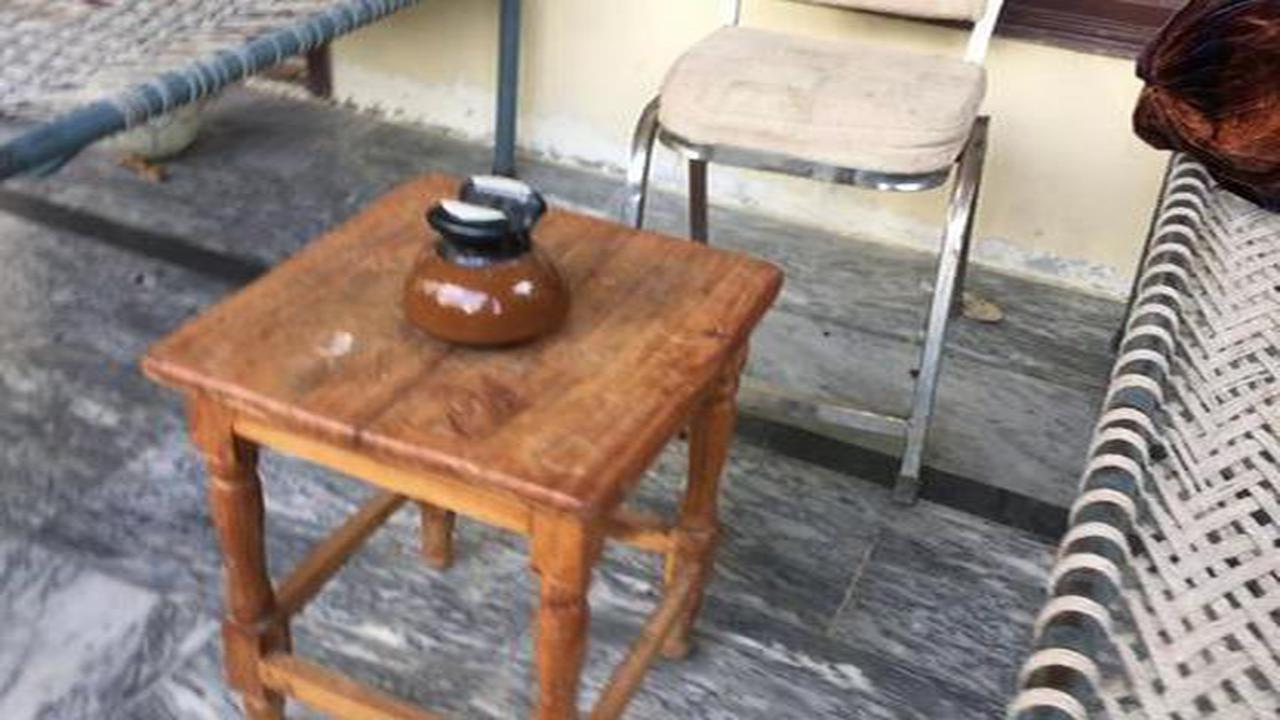insulator_pin: (388, 167, 597, 359)
